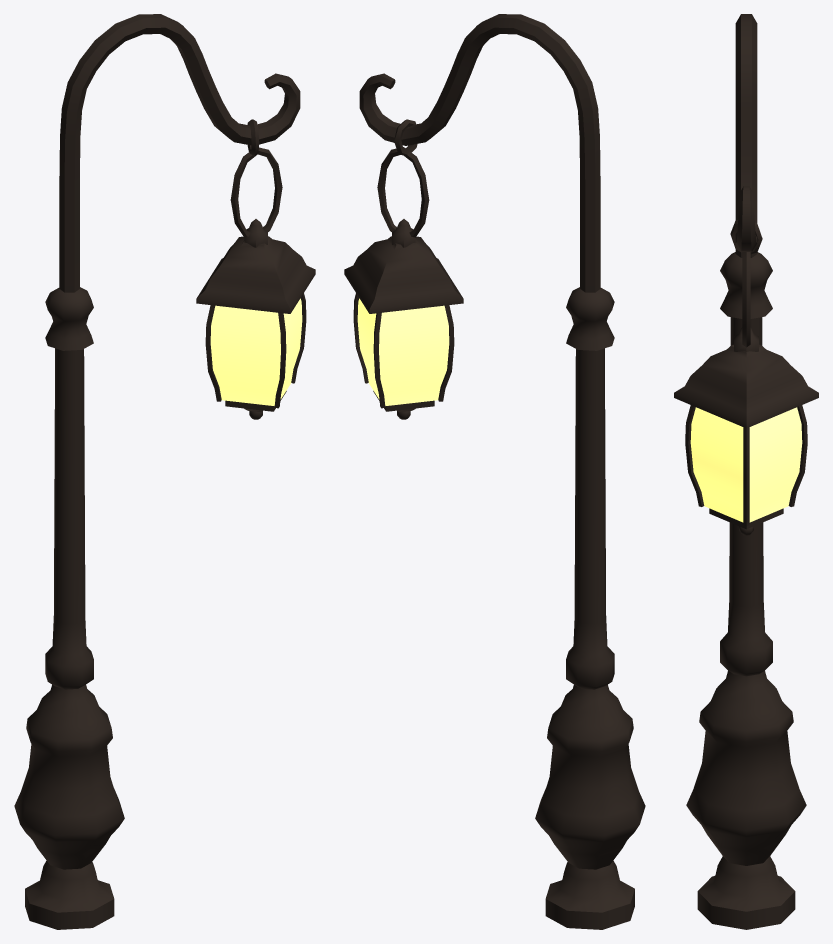
File: crook-lantern.glb
3 views of the same model, side by side, from view 1: azimuth 30°, elevation 25°; view 2: azimuth 150°, elevation 25°; view 3: azimuth 270°, elevation 25° (orthographic). The views are drawn at different scales.
Visible parts, largest first — view 1: crook_iron, lantern_glass; view 2: crook_iron, lantern_glass; view 3: crook_iron, lantern_glass.
Part boxes in pixels (x1,y1,x2,y2): crook_iron: (14, 14, 315, 929); lantern_glass: (210, 298, 302, 405); crook_iron: (344, 14, 645, 929); lantern_glass: (357, 298, 449, 405); crook_iron: (674, 14, 818, 929); lantern_glass: (690, 407, 802, 522).
Bounding box in the file's own units: 0.7762 × 2.2 × 0.313.
